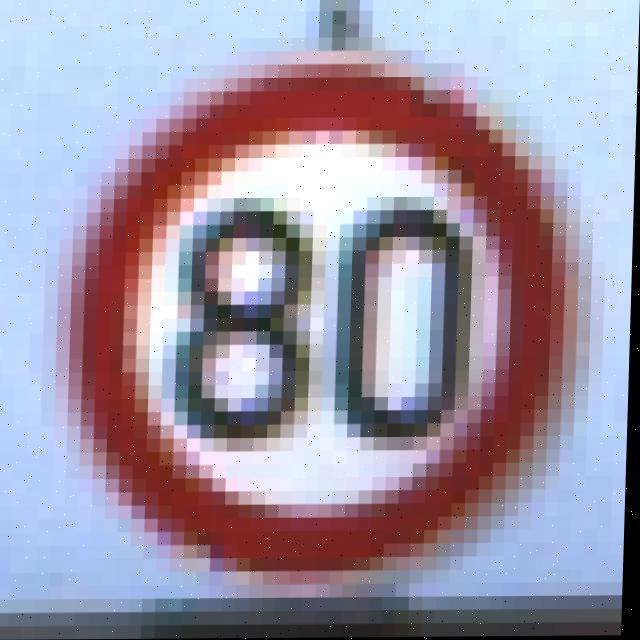speed_limit_80: (64, 73, 586, 574)
